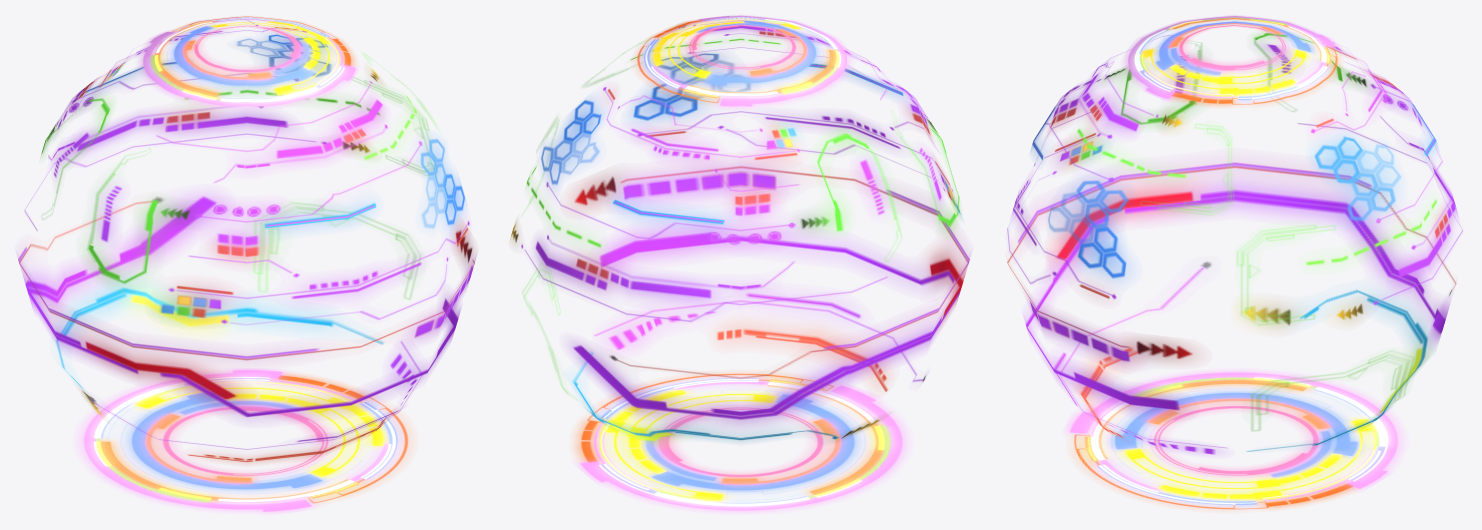
File: tech_elevator.glb
3 renders of one model, left to right at view 1: azimuth 30°, elevation 25°; view 2: azimuth 150°, elevation 25°; view 3: azimuth 270°, elevation 25°, orthographic.
Visible parts, largest first — view 1: Tech_Elevator; view 2: Tech_Elevator; view 3: Tech_Elevator.
Part boxes in pixels (x1,y1,x2,y2): Tech_Elevator: (17,16,476,513); Tech_Elevator: (510,15,970,513); Tech_Elevator: (1007,15,1462,509).
Size of what is drawn, in the model's own units: 5.25 by 5.04 by 5.25.
Materials: 1 (1 with a texture image).
